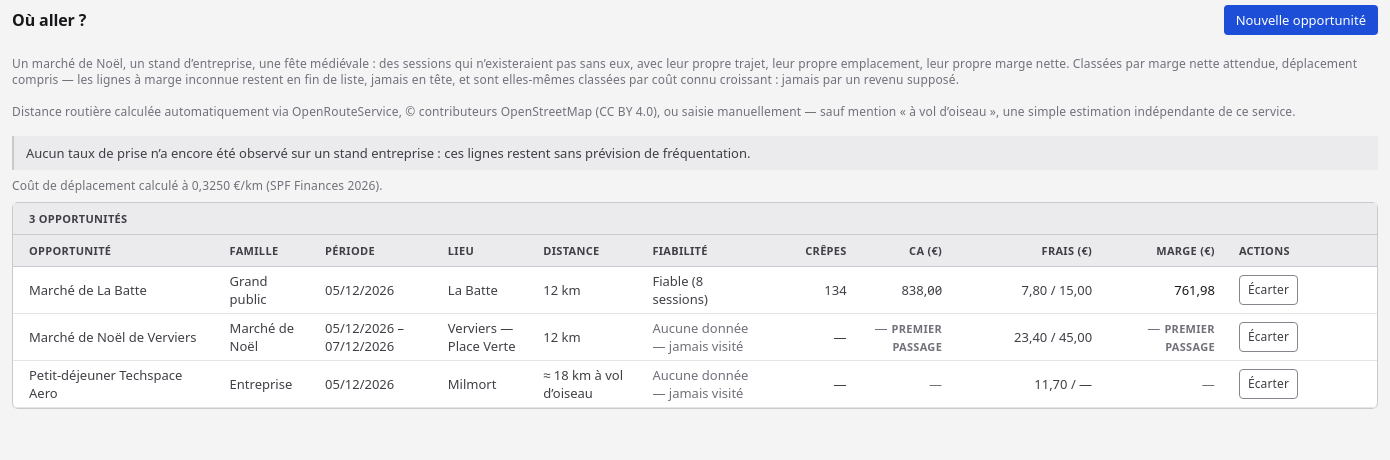
Test: Opportunités — écarter, créer, clavier › écarter une opportunité le confirme par un message, et recharge la liste
Expected: the row "Marché de Noël de Verviers" is shown, [13, 314, 1377, 361]
Click the button "Écarter" in the row of "Marché de Noël de Verviers" at (1268, 337), box [1239, 322, 1298, 352]
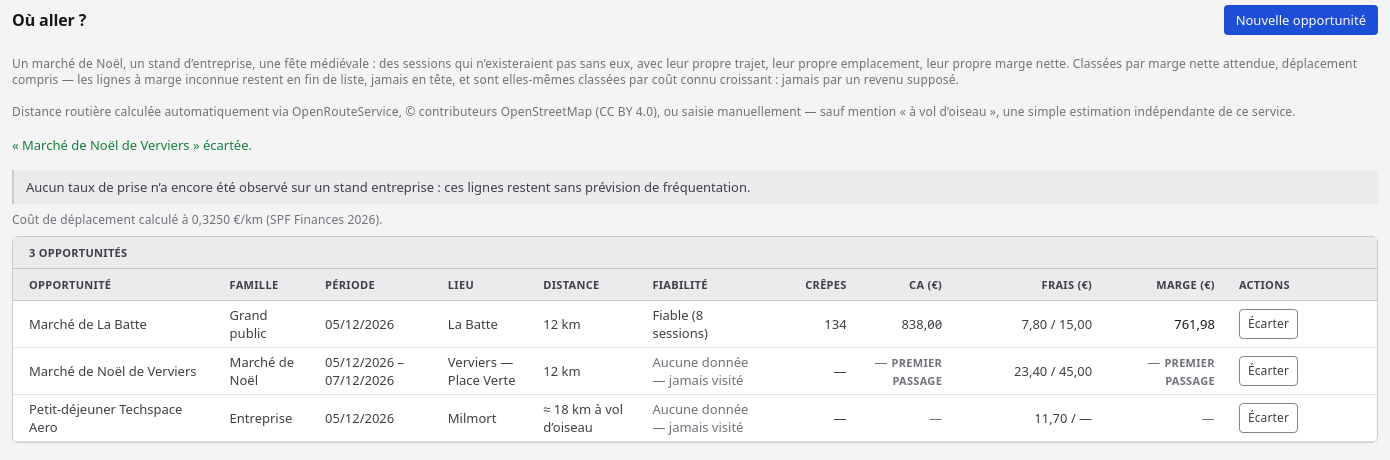
Expected: the message shows "« Marché de Noël de Verviers »", [12, 136, 252, 154]
